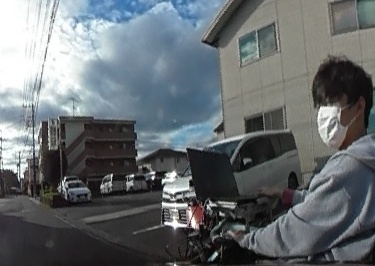person: (239, 63, 375, 266)
